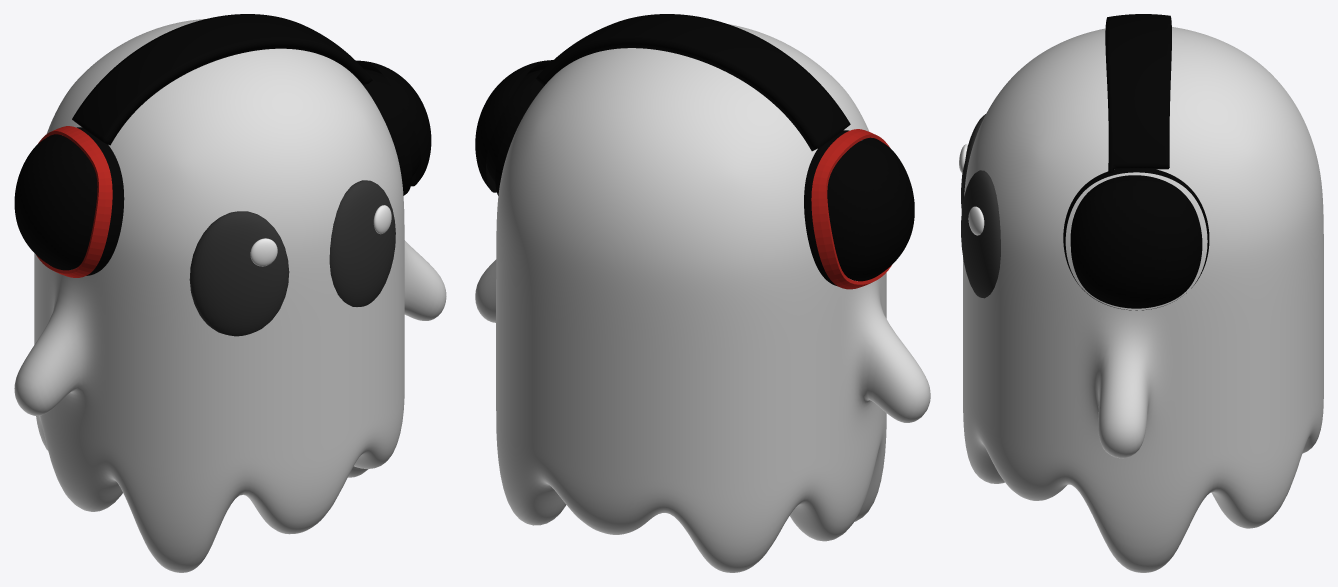
The model's file is ghostheadset.glb.
The picture shows the model from 3 angles, left to right: view 1: azimuth 30°, elevation 25°; view 2: azimuth 150°, elevation 25°; view 3: azimuth 270°, elevation 25°; orthographic projection. The views are drawn at different scales.
Parts seen in each view (by area): view 1: ghost, Cube, ghost.001, Cube.001; view 2: ghost, Cube, ghost.001, Cube.001; view 3: ghost, Cube, ghost.001.
Boxes of the visible parts, x1=… form: ghost: x1=14, y1=19, x2=446, y2=572; Cube: x1=14, y1=60, x2=431, y2=275; ghost.001: x1=72, y1=14, x2=372, y2=145; Cube.001: x1=36, y1=126, x2=112, y2=277; ghost: x1=475, y1=24, x2=930, y2=572; Cube: x1=475, y1=60, x2=914, y2=286; ghost.001: x1=535, y1=14, x2=850, y2=151; Cube.001: x1=811, y1=129, x2=891, y2=289; ghost: x1=959, y1=27, x2=1323, y2=572; Cube: x1=1063, y1=168, x2=1209, y2=310; ghost.001: x1=1105, y1=14, x2=1171, y2=172.
Size of the model in its own units: 2.26 by 2.44 by 1.69.
